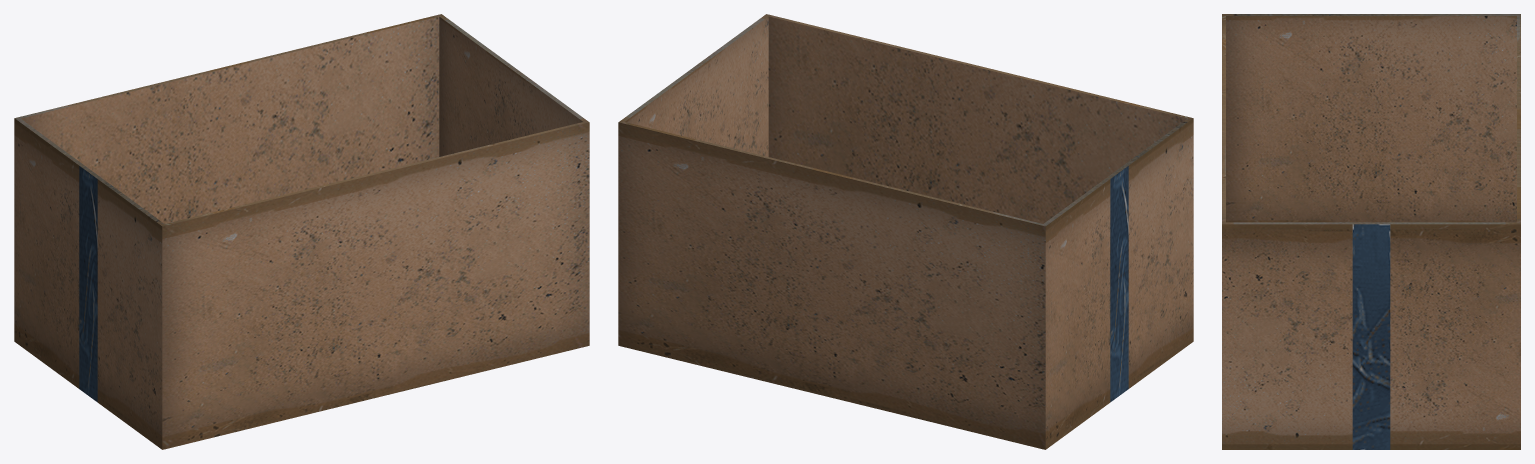
File: CardboardBoxOpen2_SM.fbx
The picture shows the model from 3 angles, left to right: view 1: azimuth 30°, elevation 25°; view 2: azimuth 150°, elevation 25°; view 3: azimuth 270°, elevation 25°; orthographic projection.
Visible parts, largest first — view 1: Box016; view 2: Box016; view 3: Box016.
Boxes of the visible parts, bbox=[...] form: Box016: bbox=[14, 14, 589, 449]; Box016: bbox=[618, 14, 1193, 449]; Box016: bbox=[1222, 14, 1520, 449].
Size of the model in its own units: 117 by 58.47 by 70.16.
